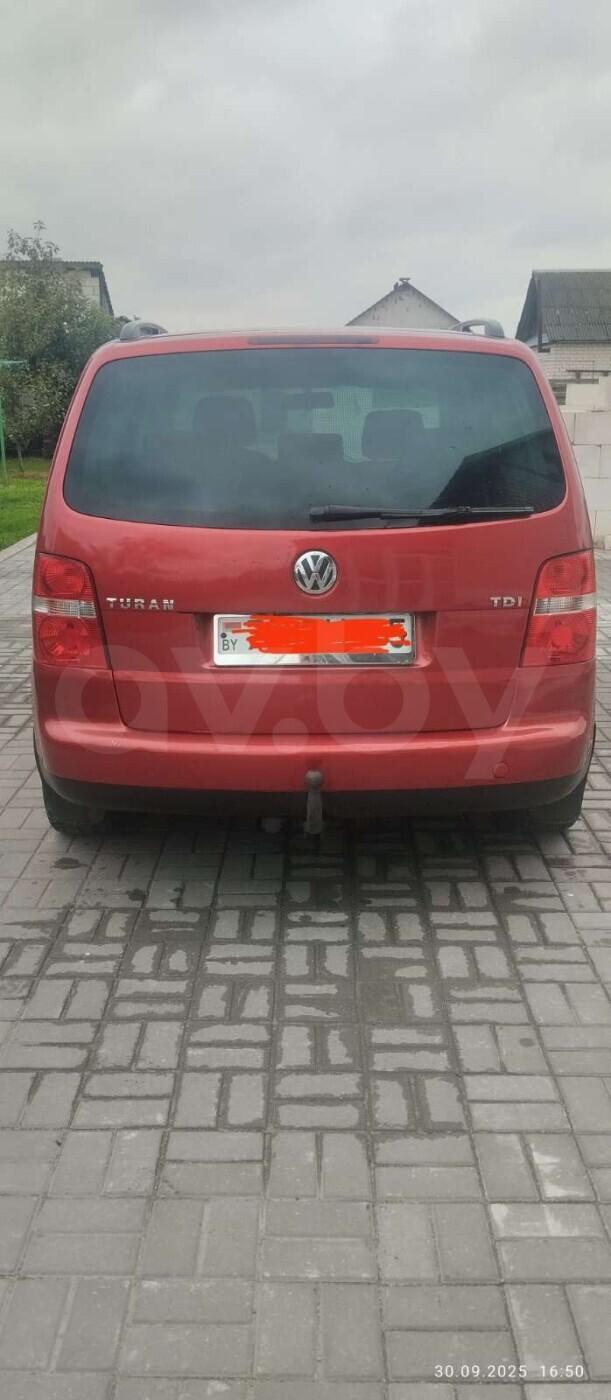Touran_2003-2006: (30, 324, 598, 838)
